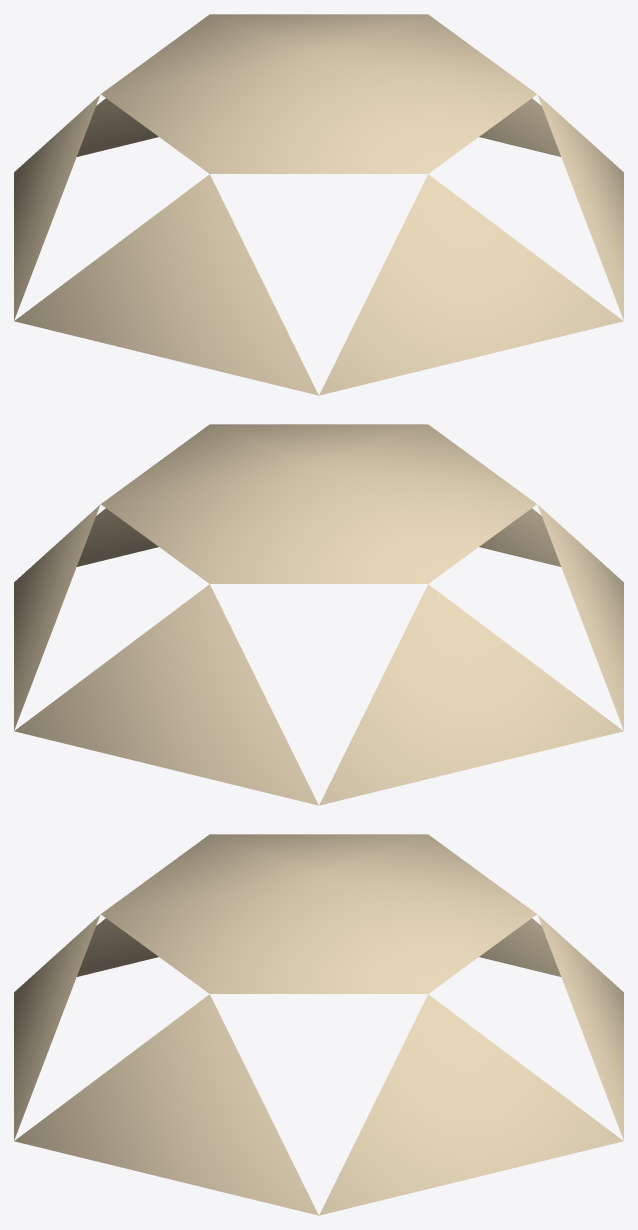
Rendered from candle_row_bead.glb.
3 views of the same model, one above another, from view 1: azimuth 30°, elevation 25°; view 2: azimuth 150°, elevation 25°; view 3: azimuth 270°, elevation 25° (orthographic).
Parts seen in each view (by area): view 1: candle_row_bead; view 2: candle_row_bead; view 3: candle_row_bead.
Part boxes in pixels (box(x1,y1,x2,y2)): candle_row_bead: box(14, 14, 623, 395); candle_row_bead: box(14, 424, 623, 805); candle_row_bead: box(14, 834, 623, 1215).
Bounding box in the file's own units: 0.0184 × 0.0055 × 0.0159.
